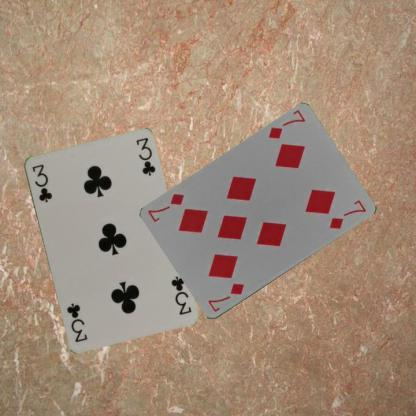3c: (168, 273, 193, 316), (29, 162, 53, 204)
7d: (266, 107, 306, 141), (205, 281, 246, 314)
